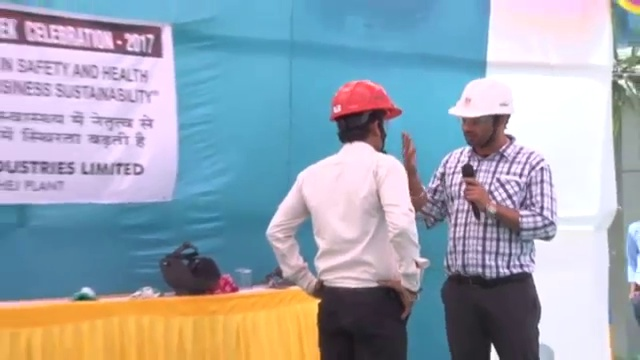helmet: (328, 80, 403, 123), (448, 77, 516, 117)
helmet_on: (327, 78, 403, 154), (447, 77, 518, 154)
person: (260, 79, 427, 358), (401, 76, 558, 360)
